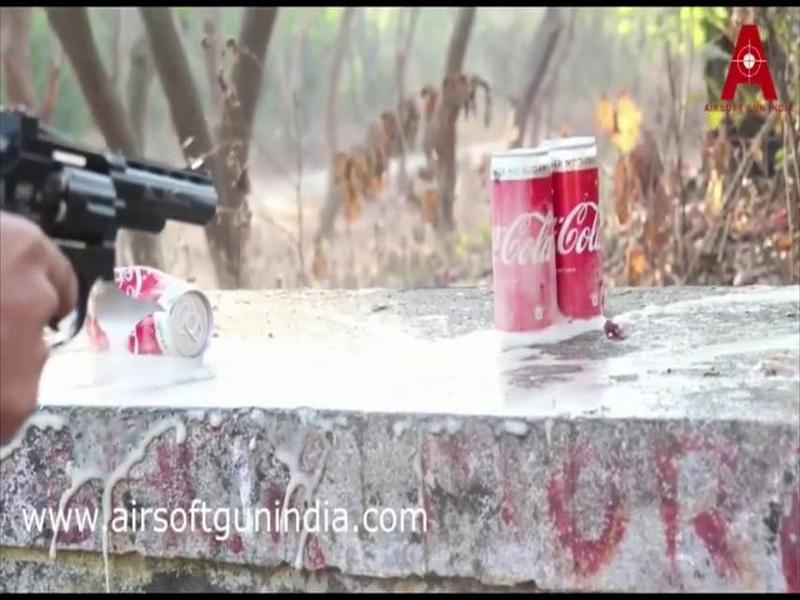Revolver: (7, 91, 254, 353)
